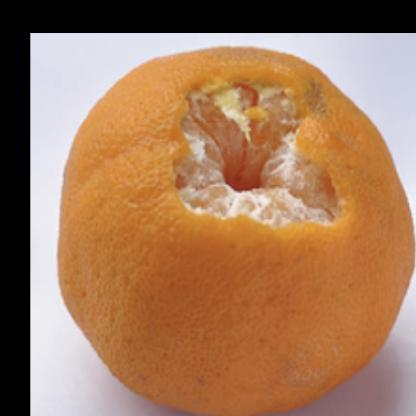fresh: (57, 45, 416, 416)
